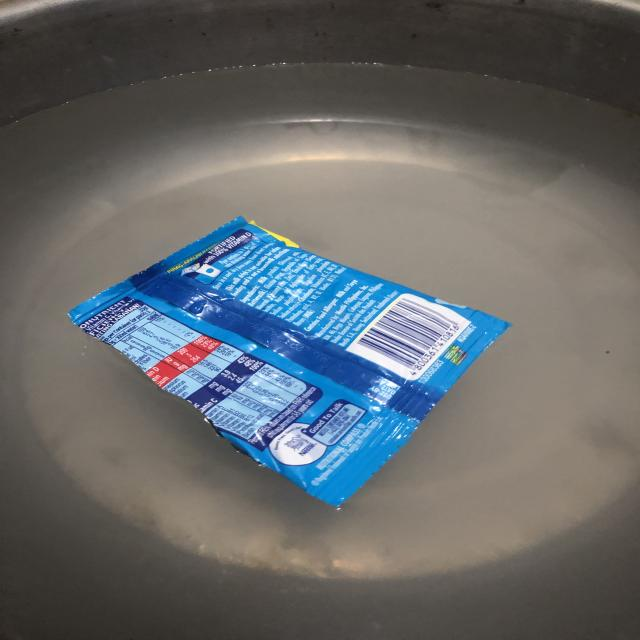Plastic Wrapper: (69, 217, 511, 507)
